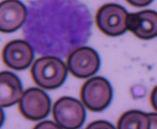B: (22, 0, 93, 57)
